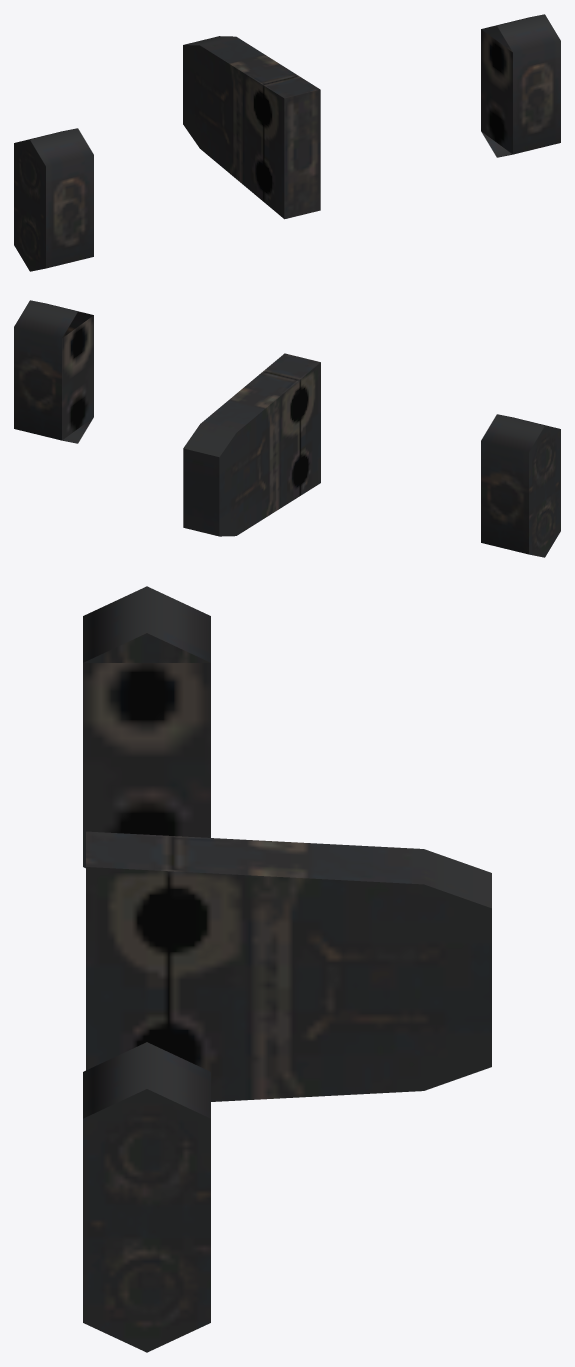
The picture shows the model from 3 angles, top to bottom: view 1: azimuth 30°, elevation 25°; view 2: azimuth 150°, elevation 25°; view 3: azimuth 270°, elevation 25°; orthographic projection. The views are drawn at different scales.
Visible parts, largest first — view 1: set_0_group_0; view 2: set_0_group_0; view 3: set_0_group_0.
Part boxes in pixels (x1,y1,x2,y2): set_0_group_0: [14, 14, 560, 271]; set_0_group_0: [14, 300, 560, 557]; set_0_group_0: [83, 586, 491, 1352].
Size of the model in its own units: 0.546 by 0.1337 by 0.1878.
1 material, 1 textured.
